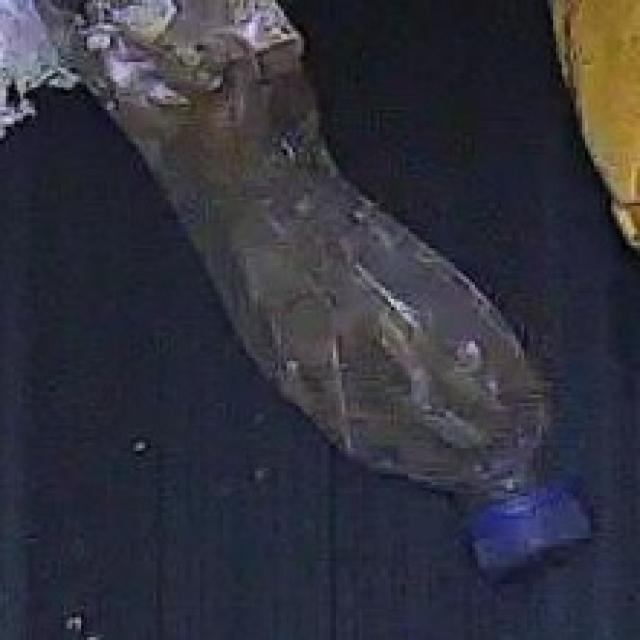litter: (17, 1, 640, 584)
